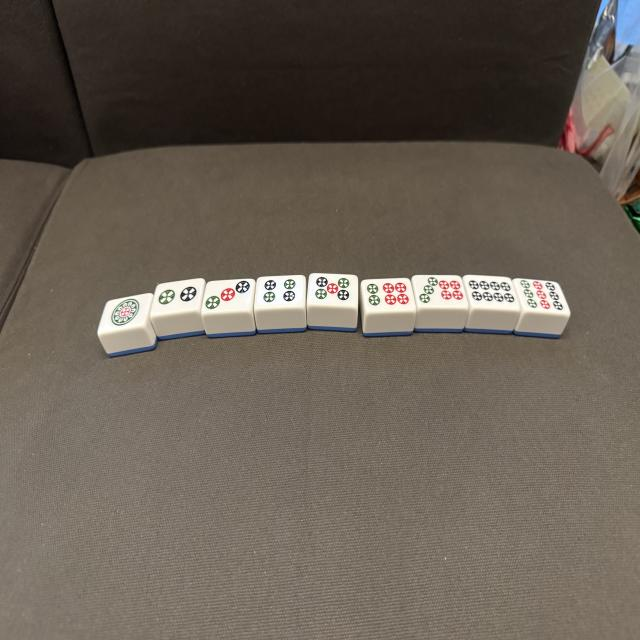1D: (98, 295, 154, 333)
2D: (154, 281, 204, 311)
3D: (203, 280, 256, 313)
4D: (254, 276, 306, 306)
5D: (307, 274, 358, 304)
6D: (360, 280, 415, 312)
7D: (412, 276, 468, 308)
8D: (465, 278, 522, 308)
9D: (514, 280, 568, 313)
